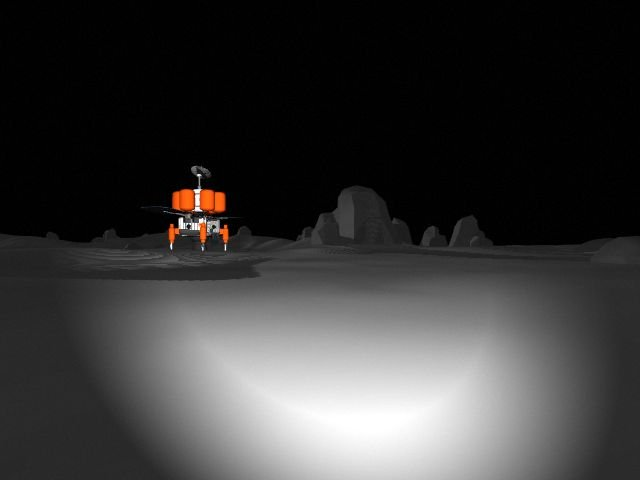homebase: (143, 163, 247, 255)
